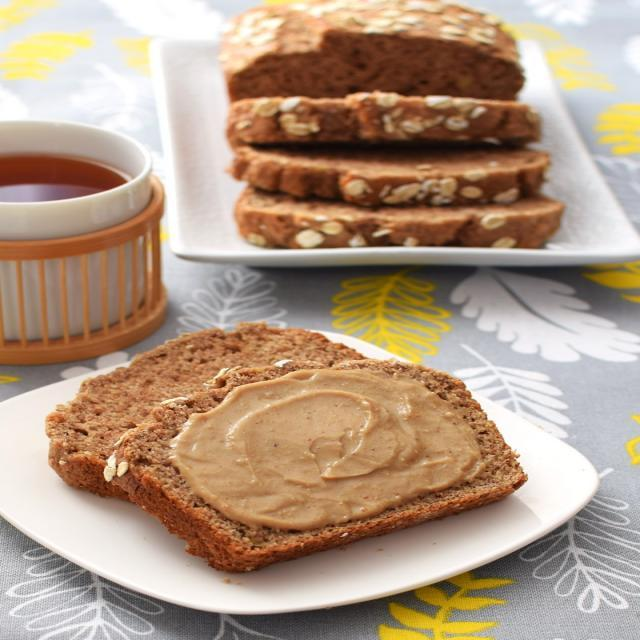Spread: (170, 367, 488, 535)
